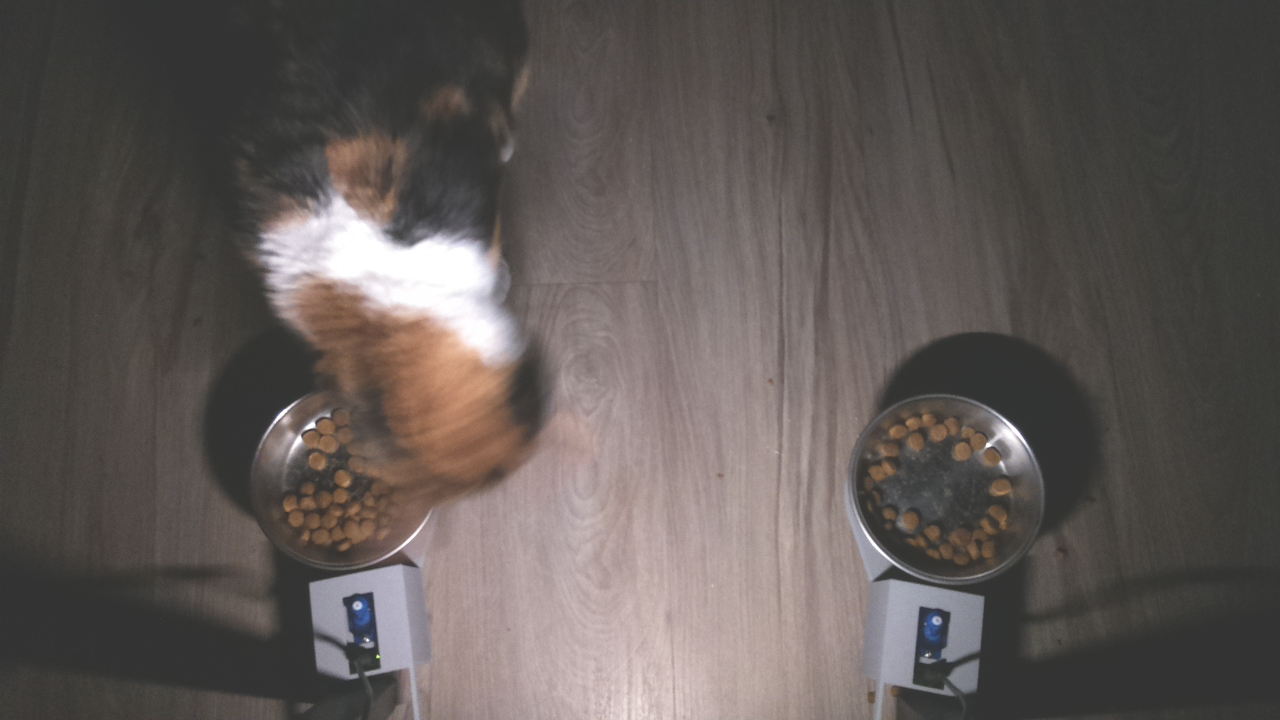bella: (250, 223, 615, 518)
open_bowl: (226, 370, 476, 576), (841, 385, 1072, 596)
